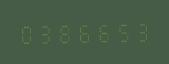eight: (55, 20, 73, 44)
five: (112, 19, 130, 43)
six: (93, 19, 111, 43), (74, 20, 92, 43)
three: (36, 20, 54, 44), (131, 19, 149, 42)
zero: (17, 21, 35, 44)
